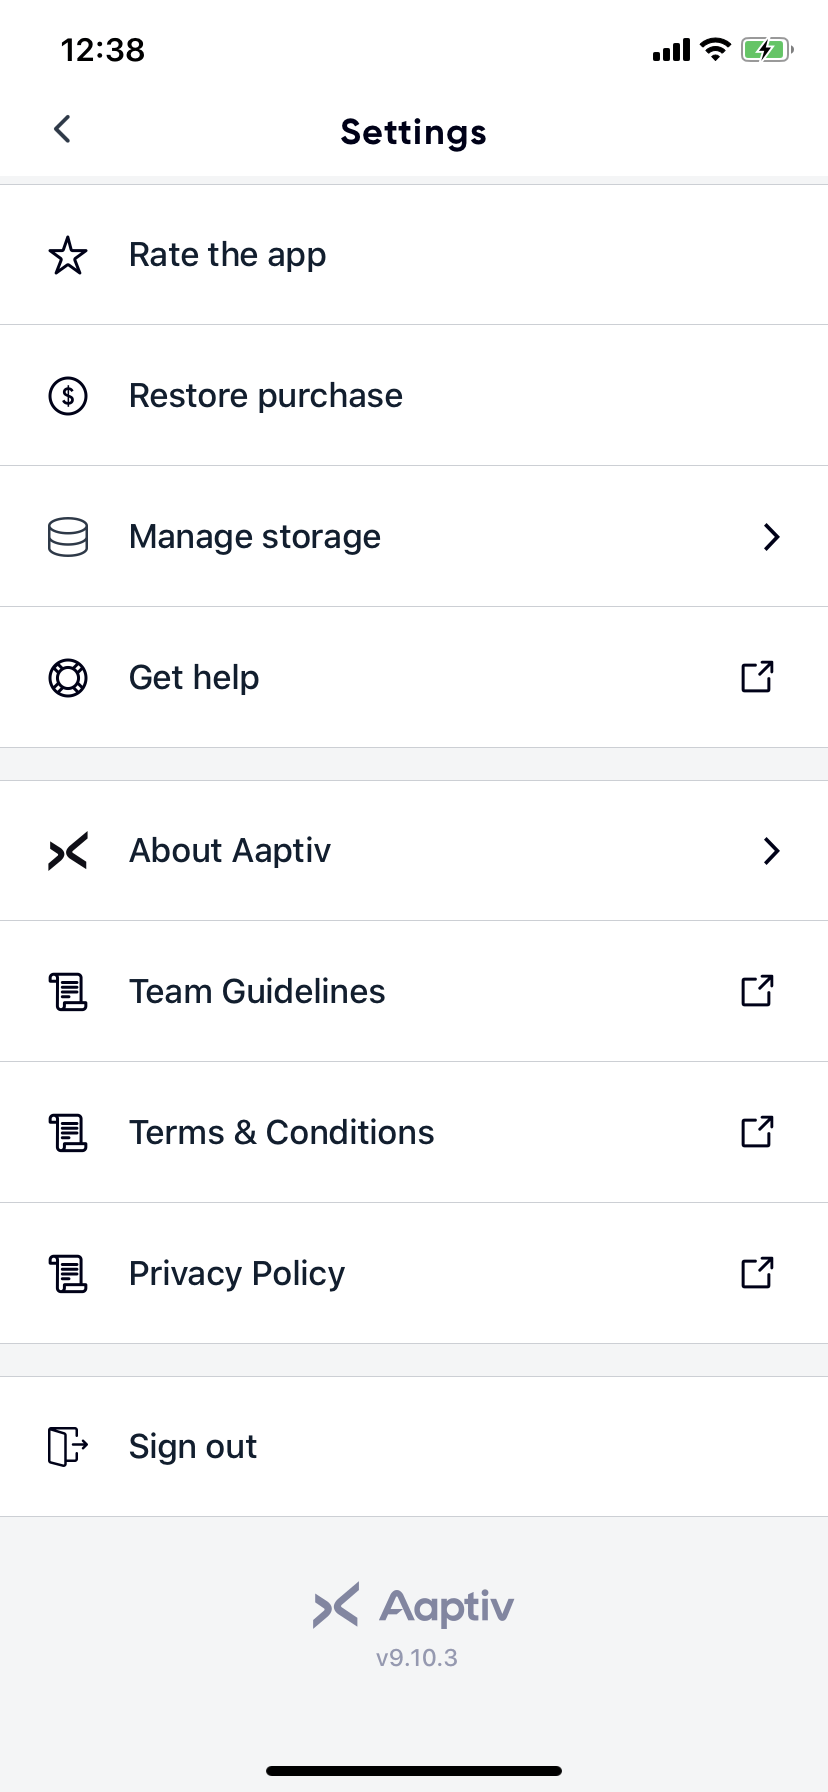Buttons: (1, 1359, 828, 1527), (25, 82, 106, 167)
